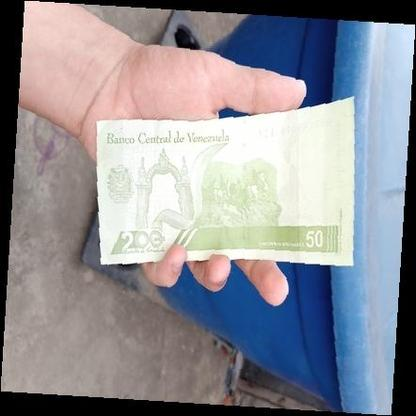fifty-back-vef: (95, 95, 354, 265)
